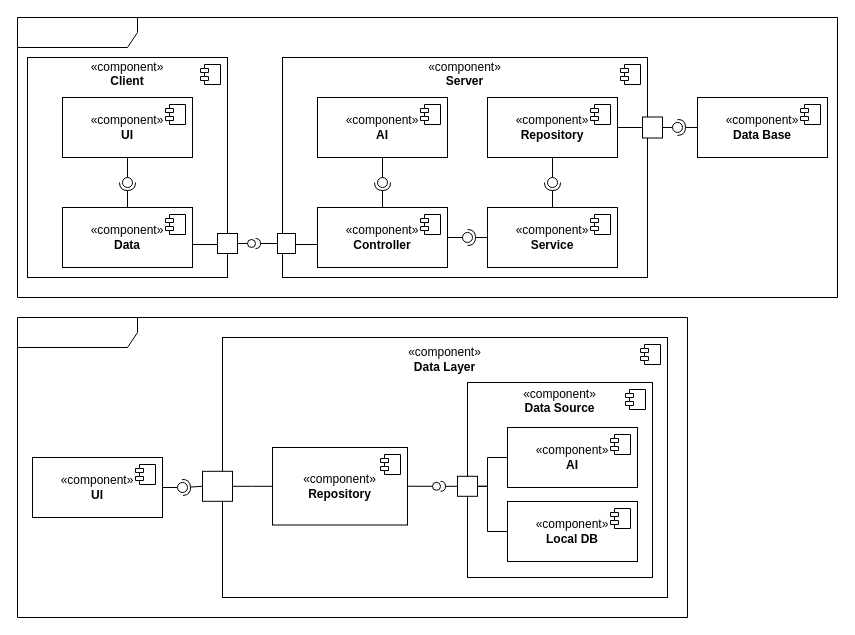
The diagram is 855 pixels wide and 635 high, and some of its shapes have lost their labels. The centre of each missing label's shape, as x and y in pixels:
Distributed App: the point at 427,157
Monolith App: the point at 352,467
